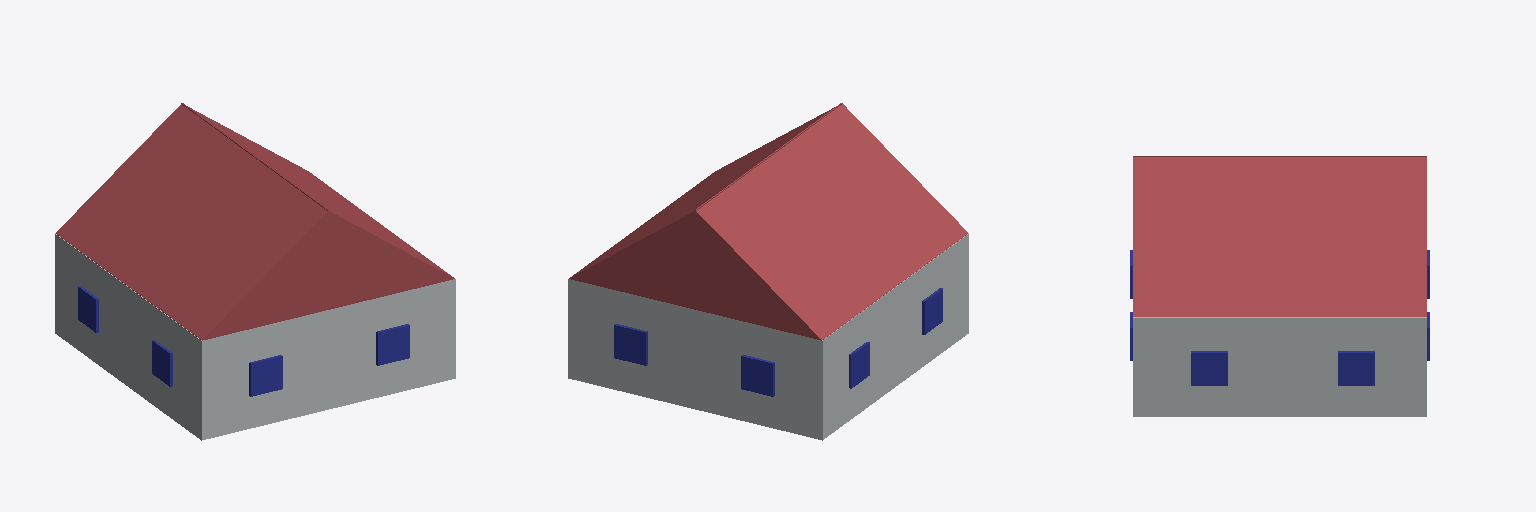
File: house.obj
The picture shows the model from 3 angles: view 1: azimuth 30°, elevation 25°; view 2: azimuth 150°, elevation 25°; view 3: azimuth 270°, elevation 25°; orthographic projection.
Parts seen in each view (by area): view 1: Cube.002_Cube.003, Cube.001_Cube.002, Cube.004_Cube.005, Cube.005_Cube.007, Cube.003_Cube.006, Cube.009_Cube.011, Cube.008_Cube.010; view 2: Cube.002_Cube.003, Cube.001_Cube.002, Cube.004_Cube.005, Cube.007_Cube.009, Cube.006_Cube.008, Cube.009_Cube.011, Cube.008_Cube.010; view 3: Cube.004_Cube.005, Cube.001_Cube.002, Cube.011_Cube.013, Cube.010_Cube.012.
Part boxes in pixels (left/top/right/bottom): Cube.002_Cube.003: left=56, top=103, right=328, bottom=340; Cube.001_Cube.002: left=55, top=189, right=455, bottom=440; Cube.004_Cube.005: left=181, top=103, right=454, bottom=309; Cube.005_Cube.007: left=376, top=324, right=409, bottom=365; Cube.003_Cube.006: left=249, top=355, right=282, bottom=396; Cube.009_Cube.011: left=78, top=286, right=98, bottom=332; Cube.008_Cube.010: left=152, top=340, right=172, bottom=386; Cube.002_Cube.003: left=695, top=103, right=967, bottom=340; Cube.001_Cube.002: left=568, top=189, right=968, bottom=440; Cube.004_Cube.005: left=569, top=103, right=842, bottom=309; Cube.007_Cube.009: left=741, top=355, right=774, bottom=396; Cube.006_Cube.008: left=614, top=324, right=647, bottom=365; Cube.009_Cube.011: left=849, top=342, right=869, bottom=388; Cube.008_Cube.010: left=922, top=288, right=942, bottom=334; Cube.004_Cube.005: left=1133, top=157, right=1426, bottom=316; Cube.001_Cube.002: left=1133, top=317, right=1426, bottom=416; Cube.011_Cube.013: left=1191, top=351, right=1227, bottom=385; Cube.010_Cube.012: left=1338, top=351, right=1374, bottom=385.
Bounding box in the file's own units: 16.47 × 12 × 16.39.